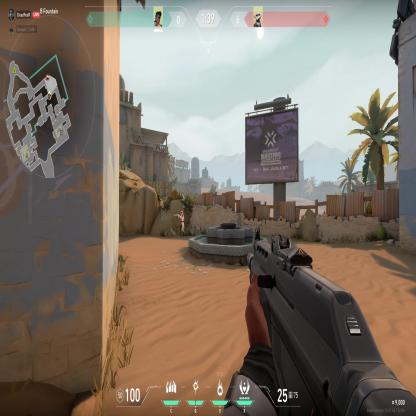enemy: (178, 210, 184, 238)
